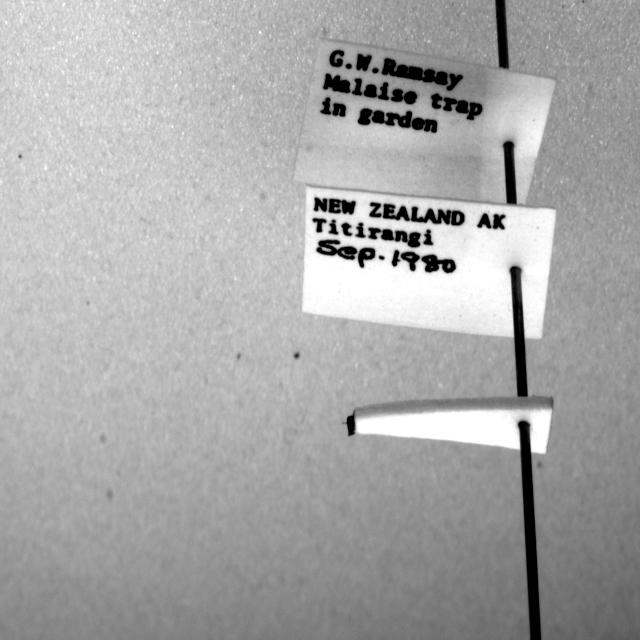mixed_label: (302, 186, 555, 339)
typed_label: (294, 39, 555, 204)
